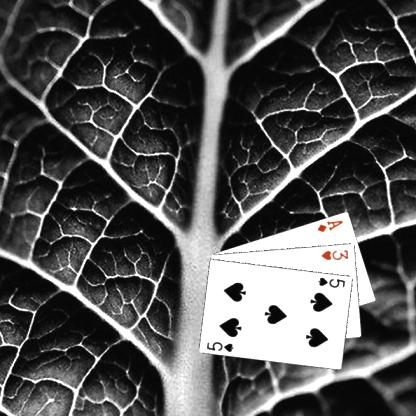3H: (319, 247, 350, 261)
5S: (204, 338, 236, 353), (315, 274, 346, 289)
AD: (314, 217, 344, 233)
